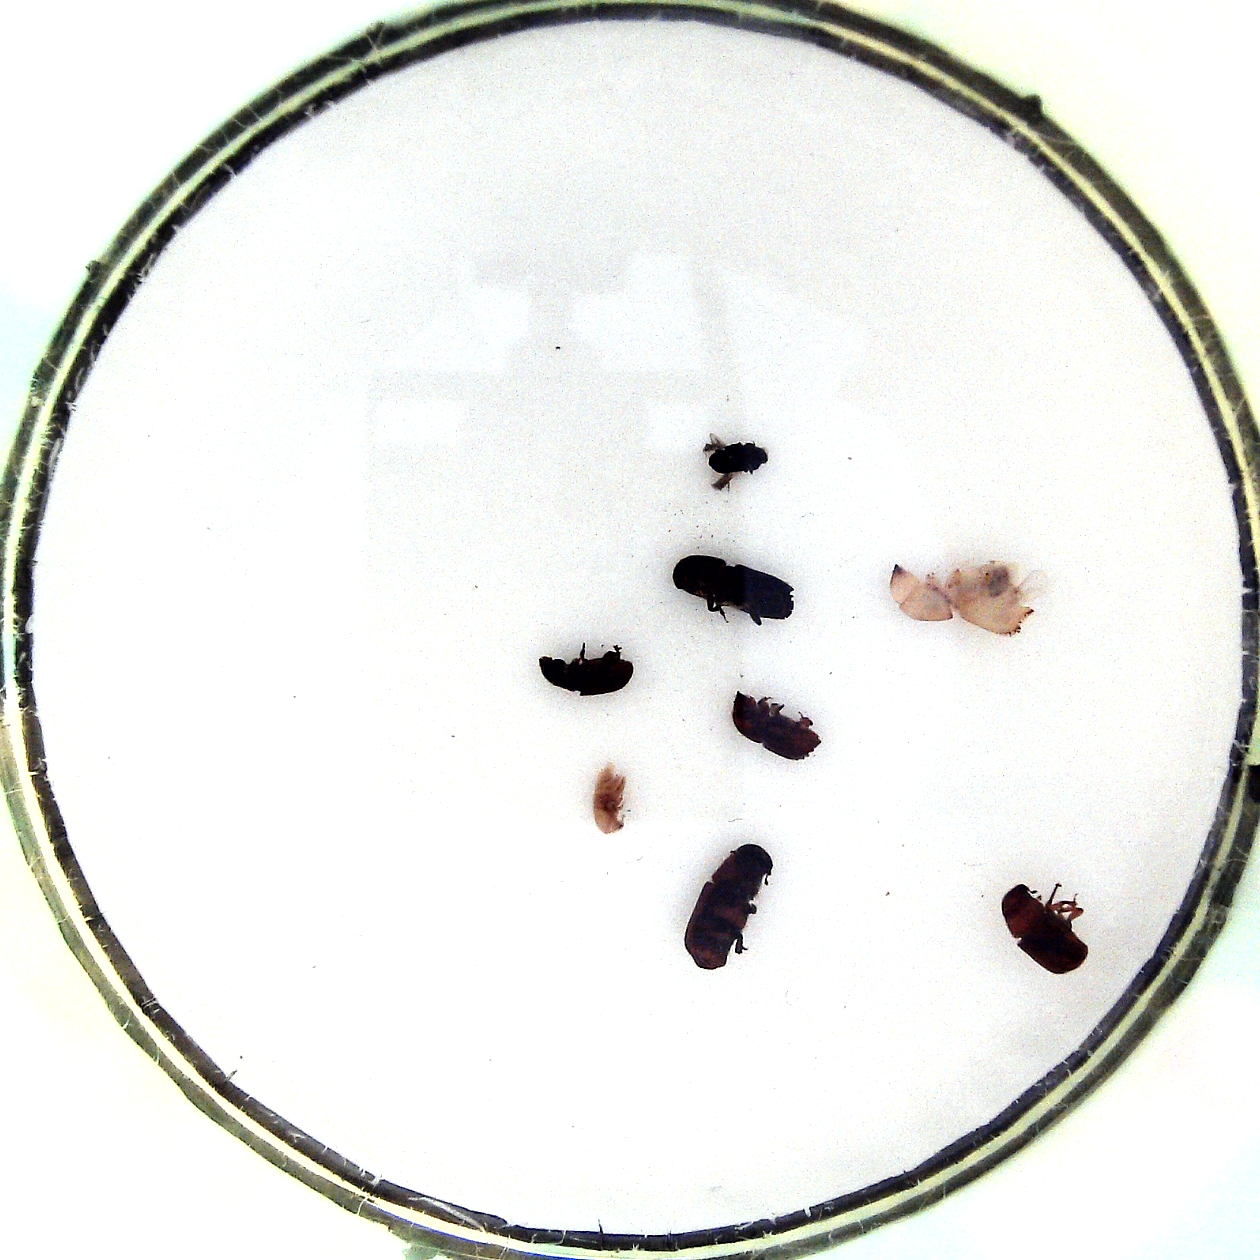Boerner: (882, 556, 1047, 636), (667, 552, 797, 628)
Leconte: (682, 838, 777, 975), (995, 879, 1090, 975)
Linnaeus: (730, 685, 823, 762)
acuminatus: (590, 762, 630, 839)
armandi: (531, 639, 630, 695)
coleoptera: (702, 429, 771, 490)
